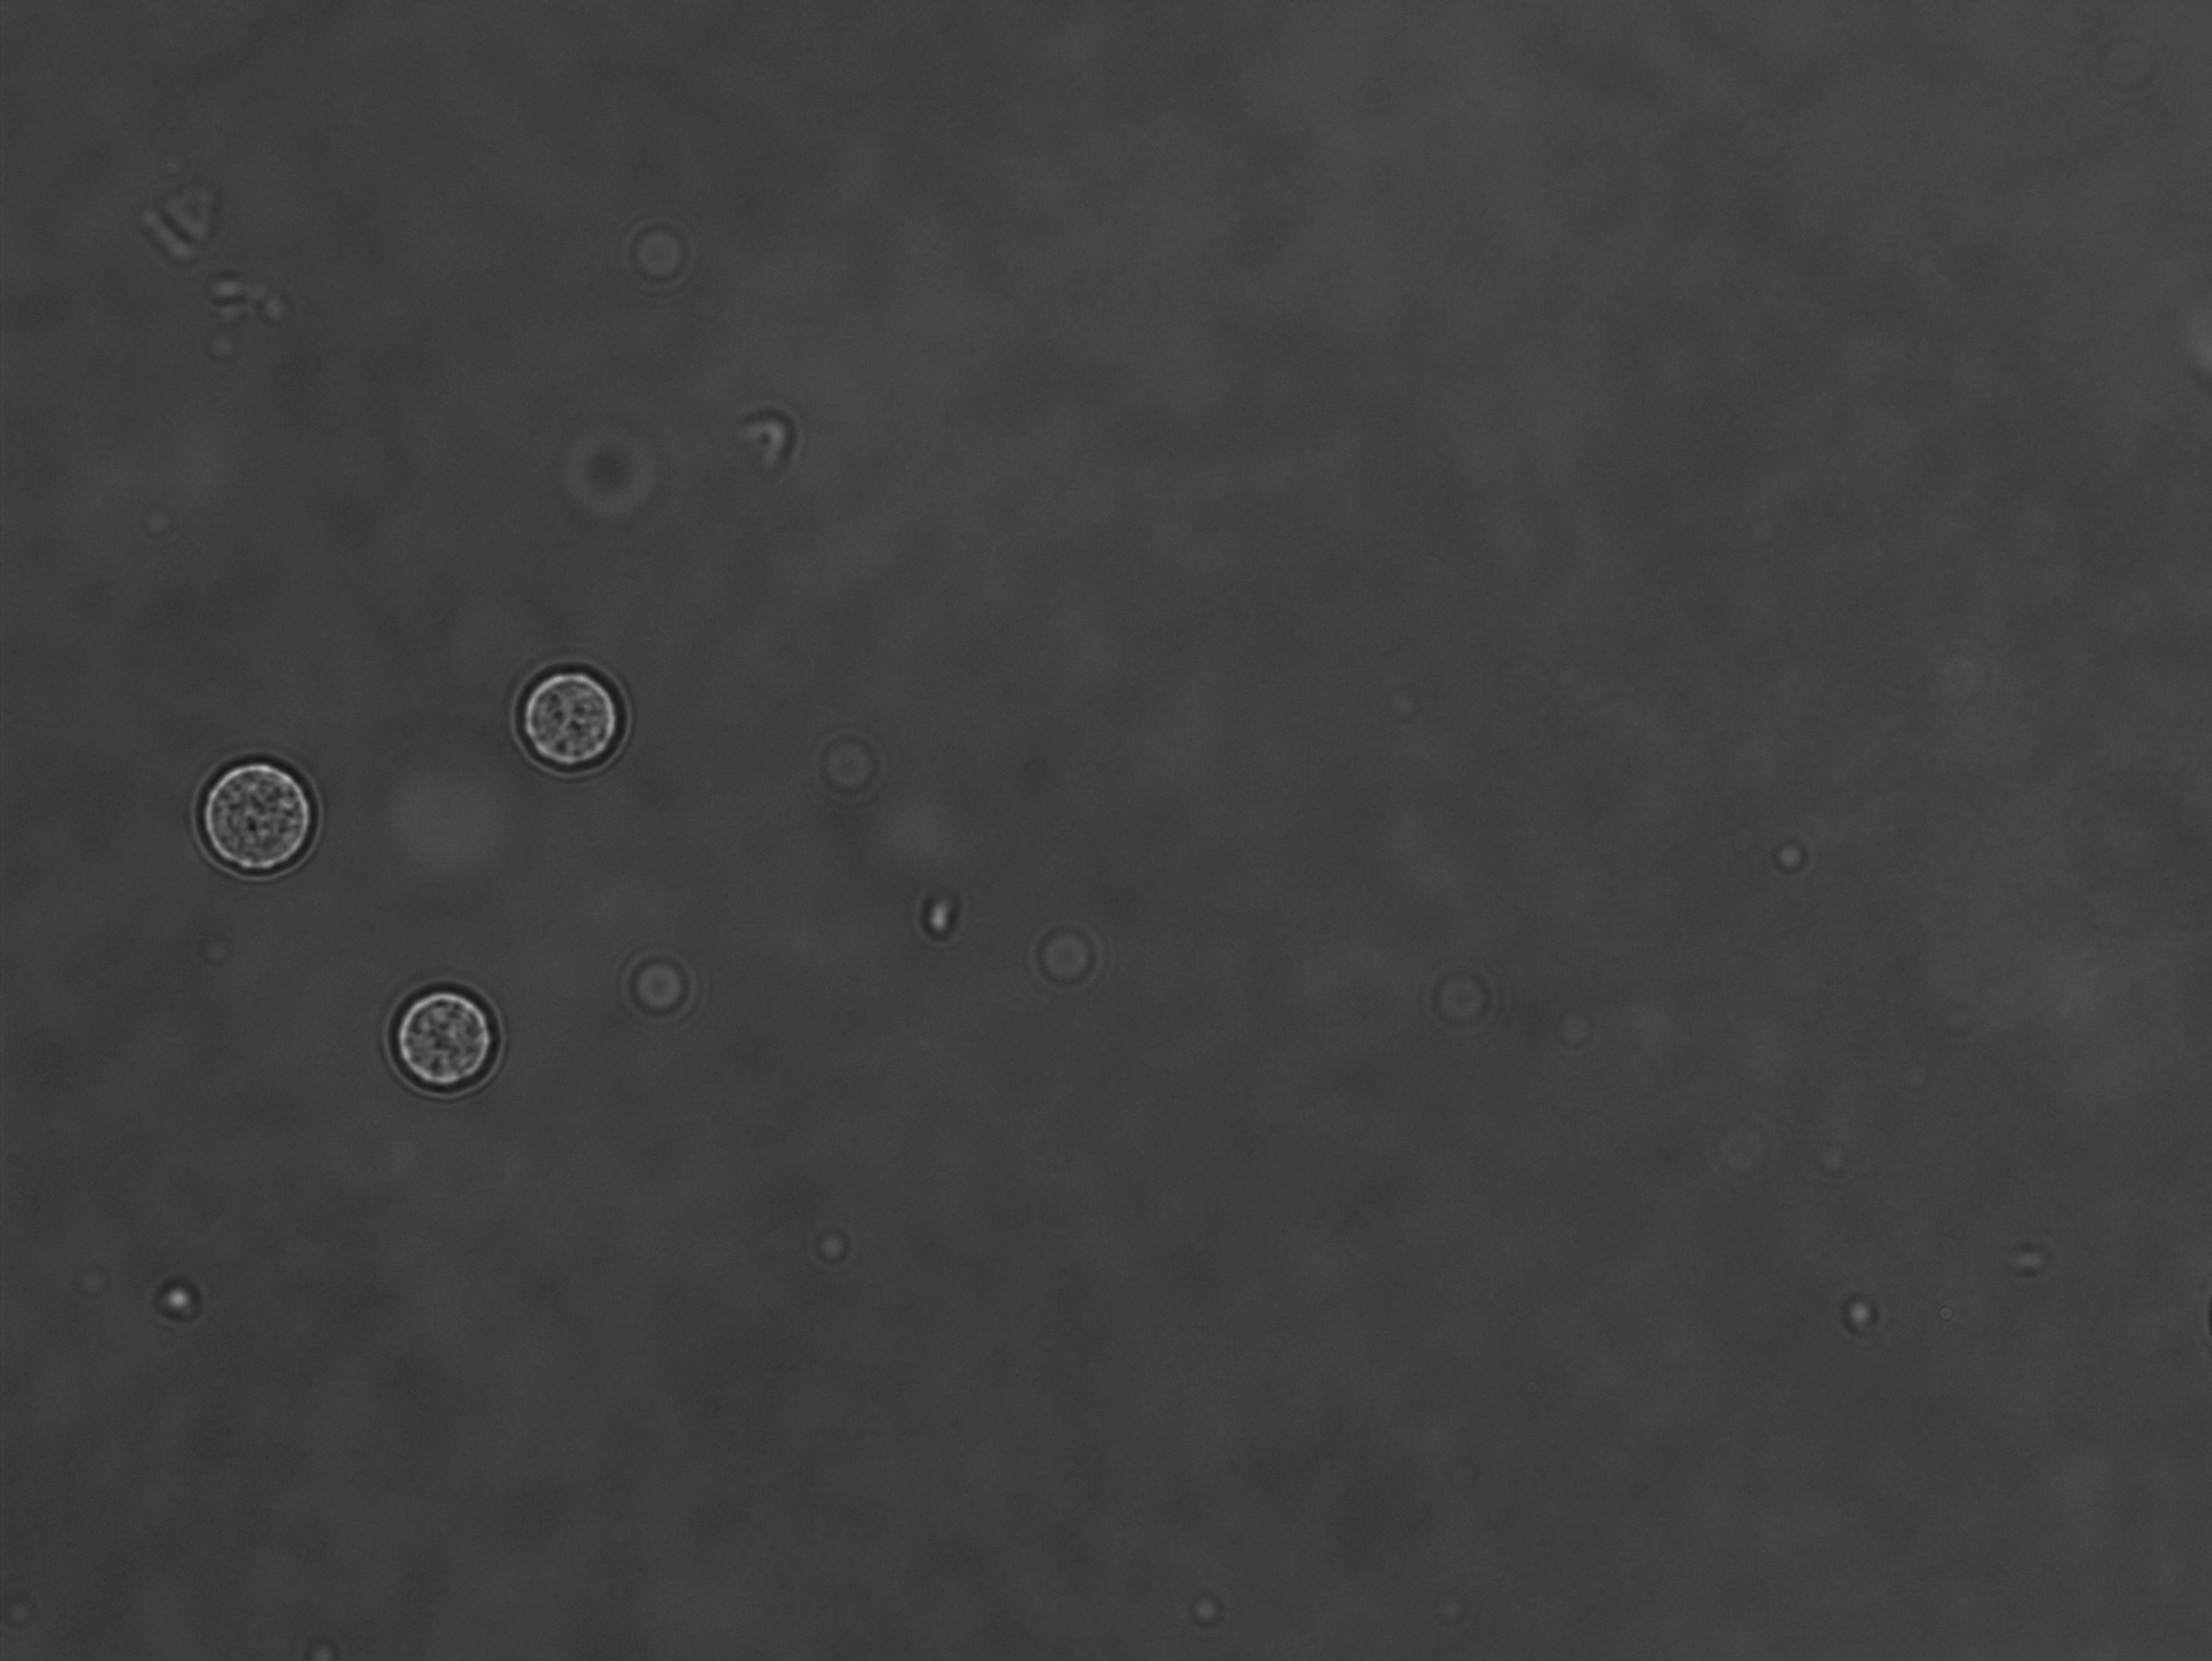depth:0: (361, 937, 525, 1111), (499, 653, 645, 803), (187, 750, 338, 893)
